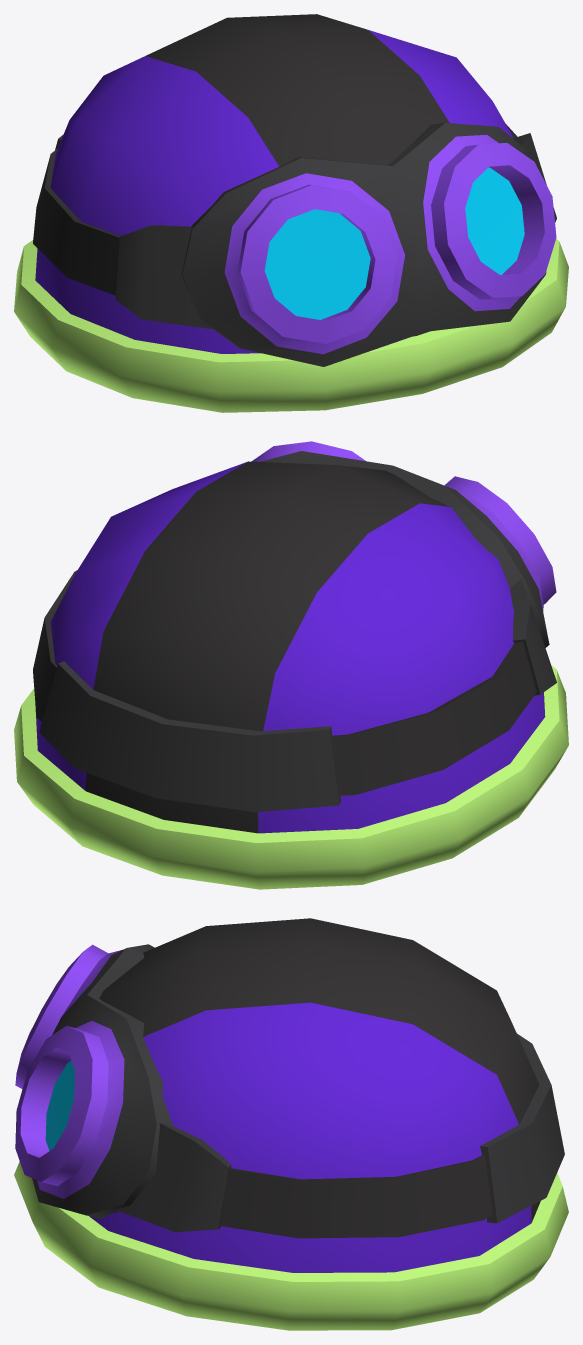
The model's file is Headgear_54.fbx.
The picture shows the model from 3 angles, top to bottom: view 1: azimuth 30°, elevation 25°; view 2: azimuth 150°, elevation 25°; view 3: azimuth 270°, elevation 25°; orthographic projection.
Visible parts, largest first — view 1: Headgear_54; view 2: Headgear_54; view 3: Headgear_54.
Boxes of the visible parts, x1,y1,x2,y2 form: Headgear_54: (14, 14, 568, 412); Headgear_54: (14, 441, 568, 889); Headgear_54: (14, 918, 568, 1330).
Size of the model in its own units: 88.83 by 51.52 by 88.58.
